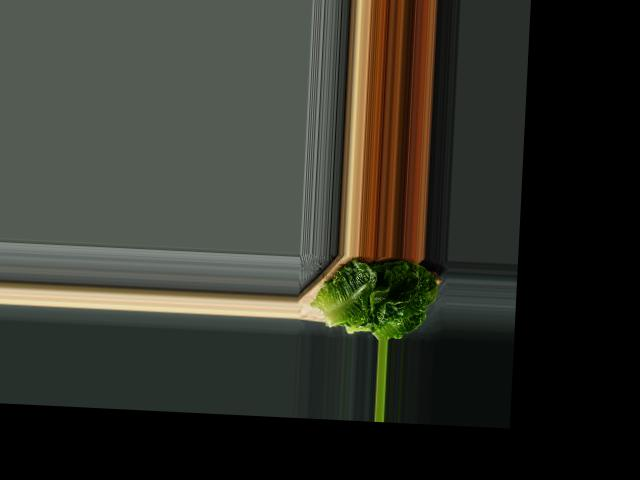lettuce: (314, 253, 442, 341)
